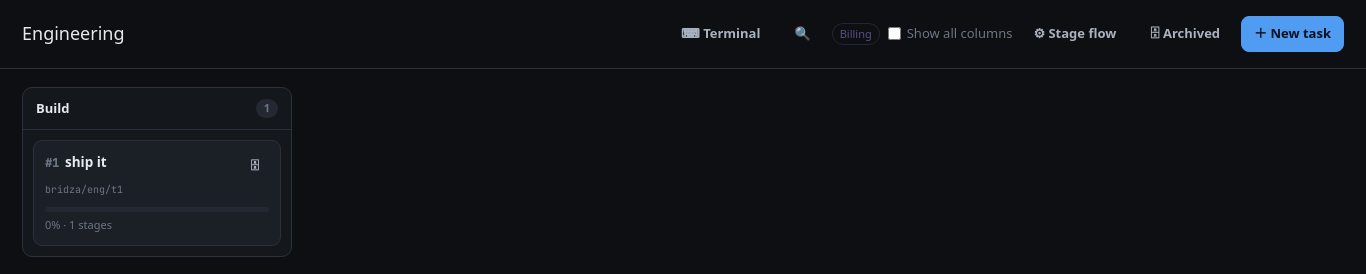
Test case: board card tag picker › L opens the tag picker even when the pipeline has one flow
The image size is (1366, 274).
Hover over the element with class "kcard".
mouse_move(157, 193)  # box [33, 140, 281, 246]
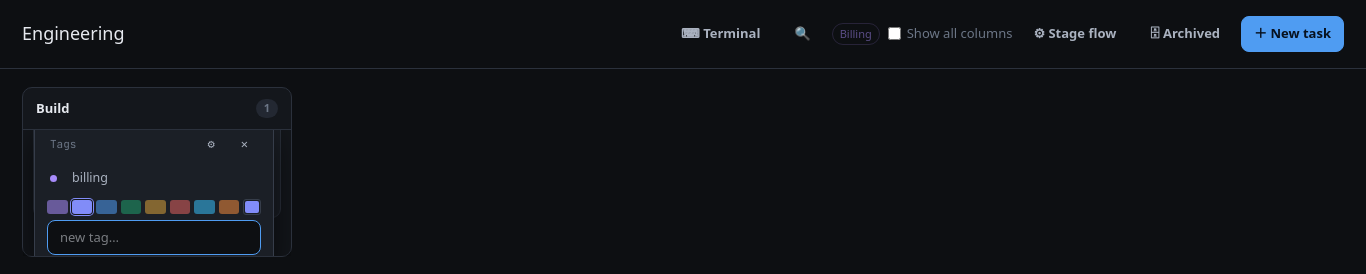
Result: the element with class "tag-menu" is shown at [34, 130, 274, 256]
Result: the element with class "tag-menu" shows "billing" at [63, 162, 267, 195]
